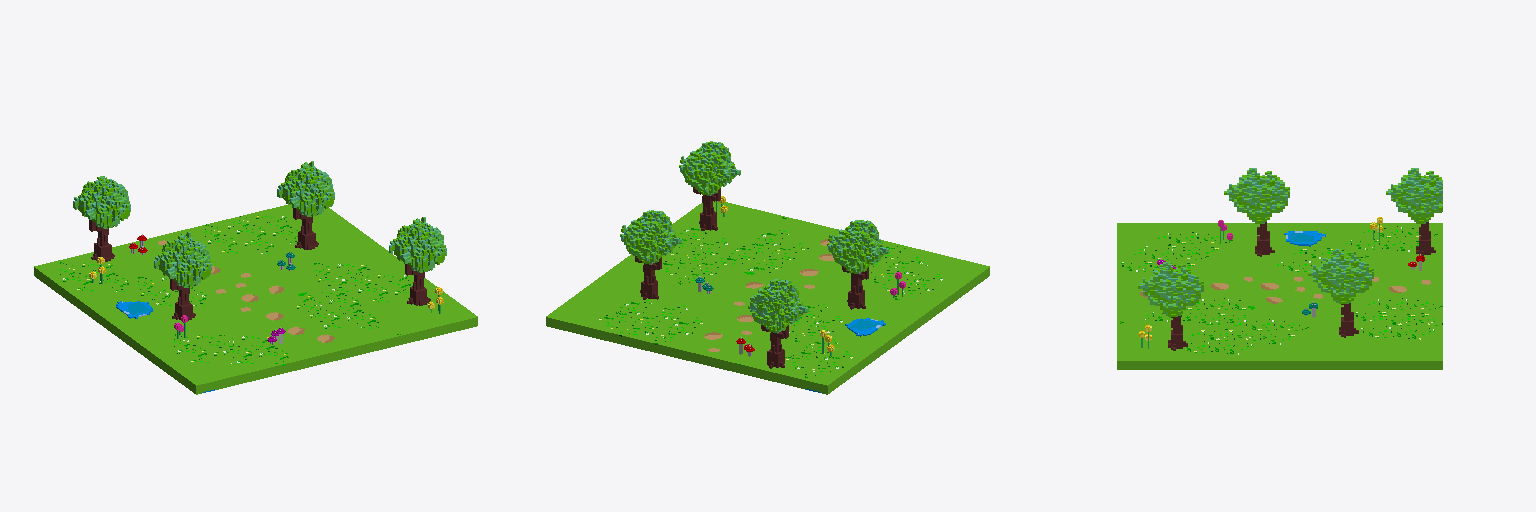
3 renders of one model, left to right at view 1: azimuth 30°, elevation 25°; view 2: azimuth 150°, elevation 25°; view 3: azimuth 270°, elevation 25°, orthographic.
Parts seen in each view (by area): view 1: Model; view 2: Model; view 3: Model.
Boxes of the visible parts, <box> form: Model: <box>34,161,477,394</box>; Model: <box>546,141,989,394</box>; Model: <box>1117,168,1442,369</box>.
Bounding box in the file's own units: 32 × 9.75 × 32.
1 materials, 1 textured.